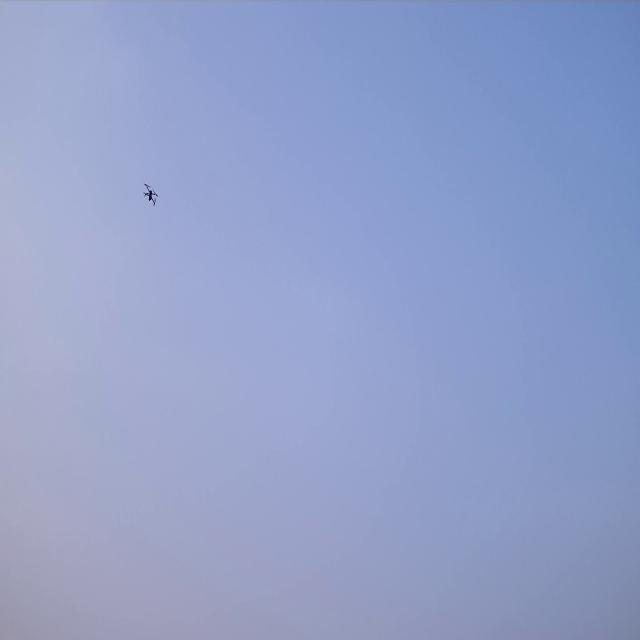UAV: (142, 181, 159, 207)
